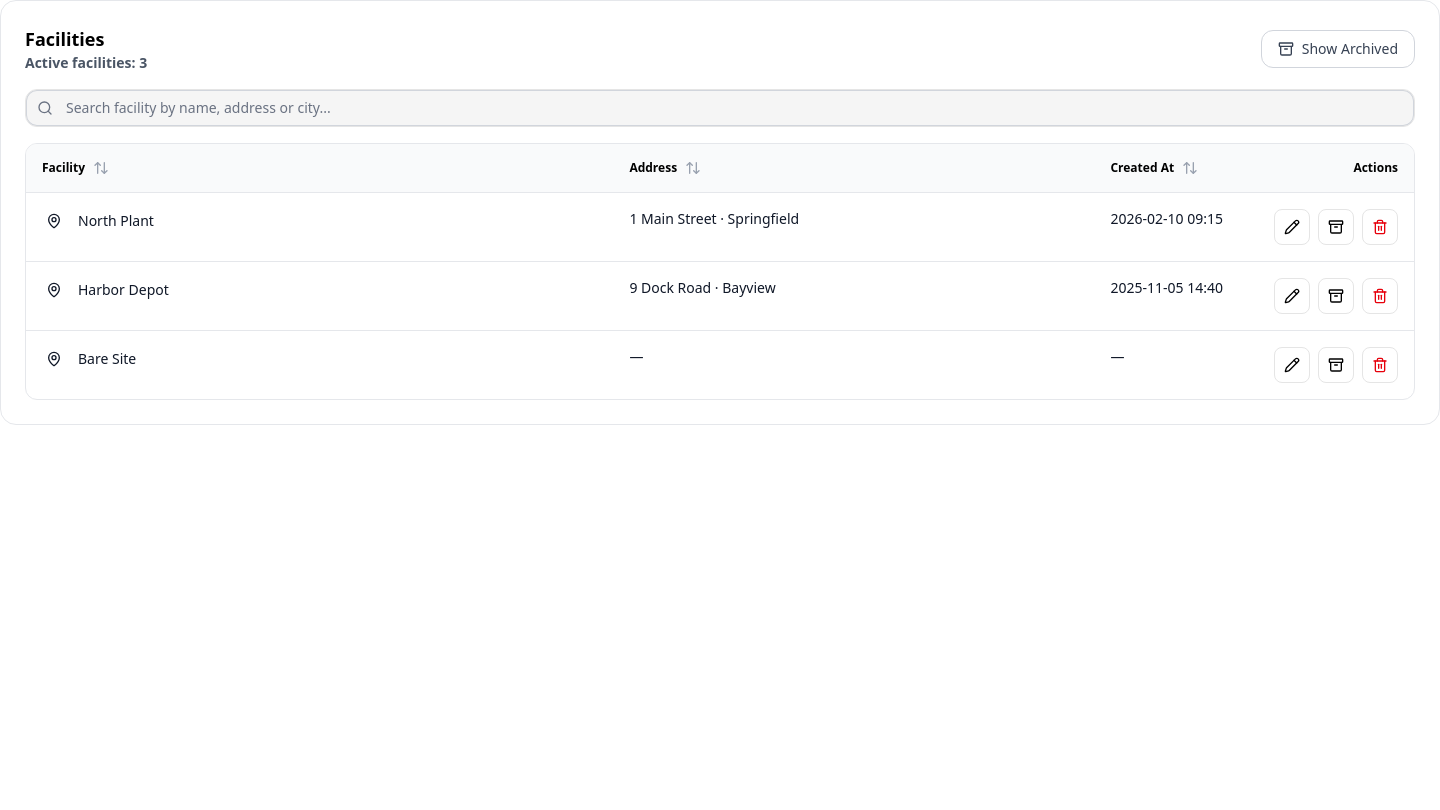
Test case: FacilitiesContent › edit › opens the edit dialog prefilled with the facility values
Click the button named "Edit facility" in the row of "North Plant": coordinates (1292, 226) x1=1274 y1=208 x2=1310 y2=244
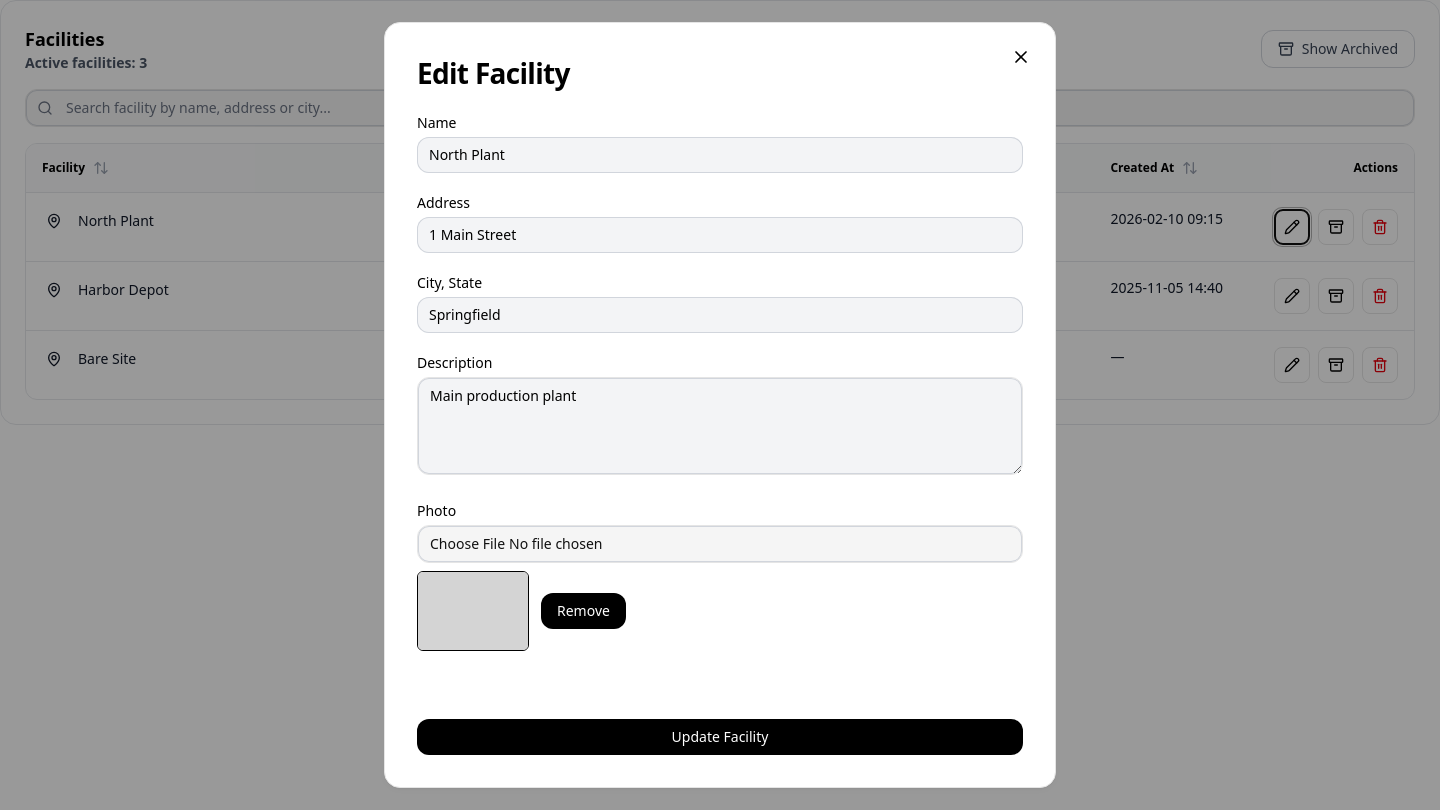
Now the heading "Edit Facility" is shown, box x1=417 y1=54 x2=570 y2=92
Now the field labelled "Name" holds "North Plant", box x1=417 y1=137 x2=1023 y2=173
Now the field labelled "Address" holds "1 Main Street", box x1=417 y1=217 x2=1023 y2=253
